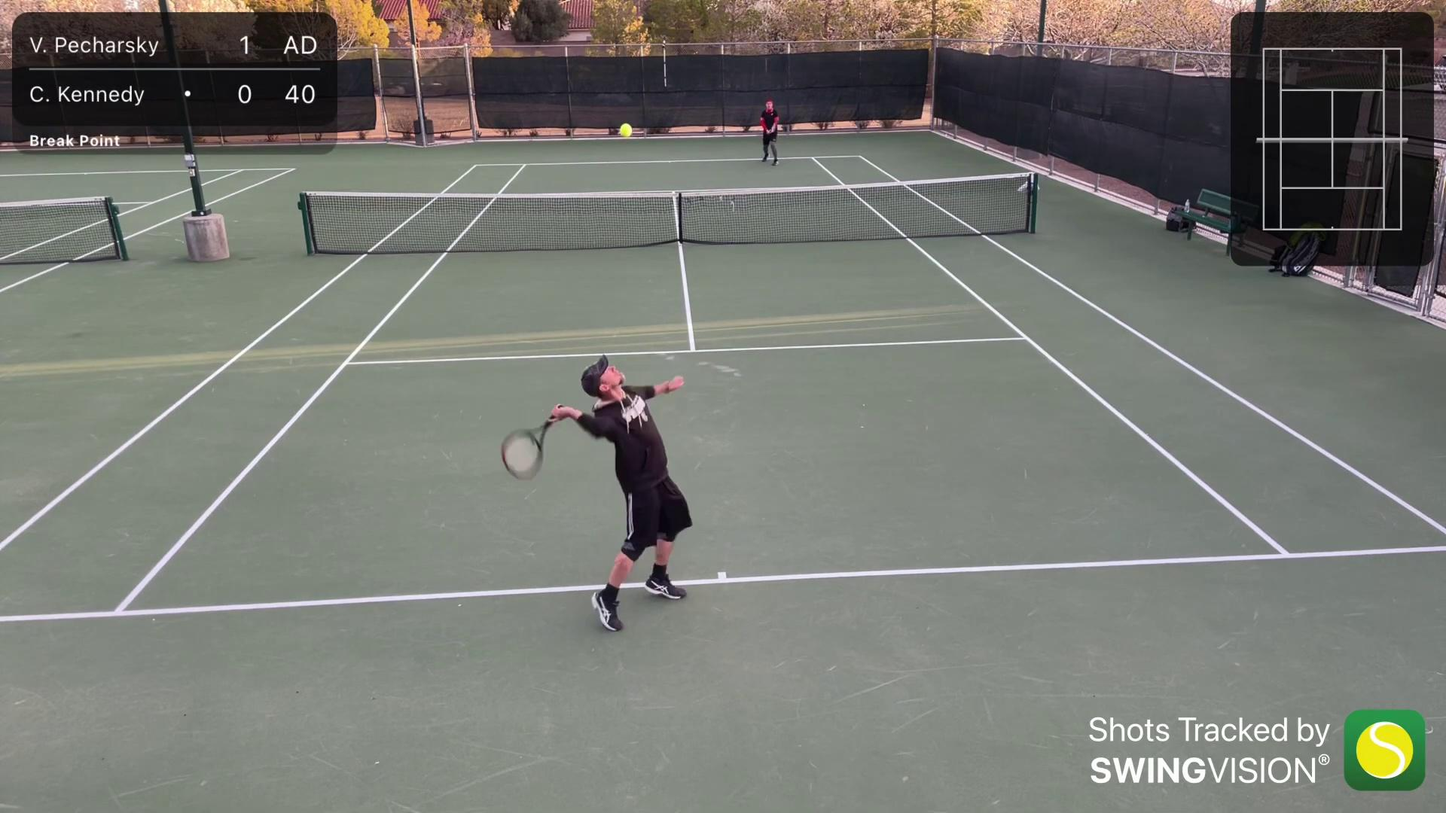ball: (618, 122, 635, 138)
